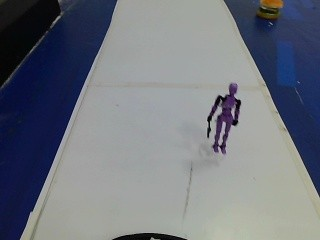burger: (252, 0, 289, 23)
pedestrian: (199, 75, 243, 159)
